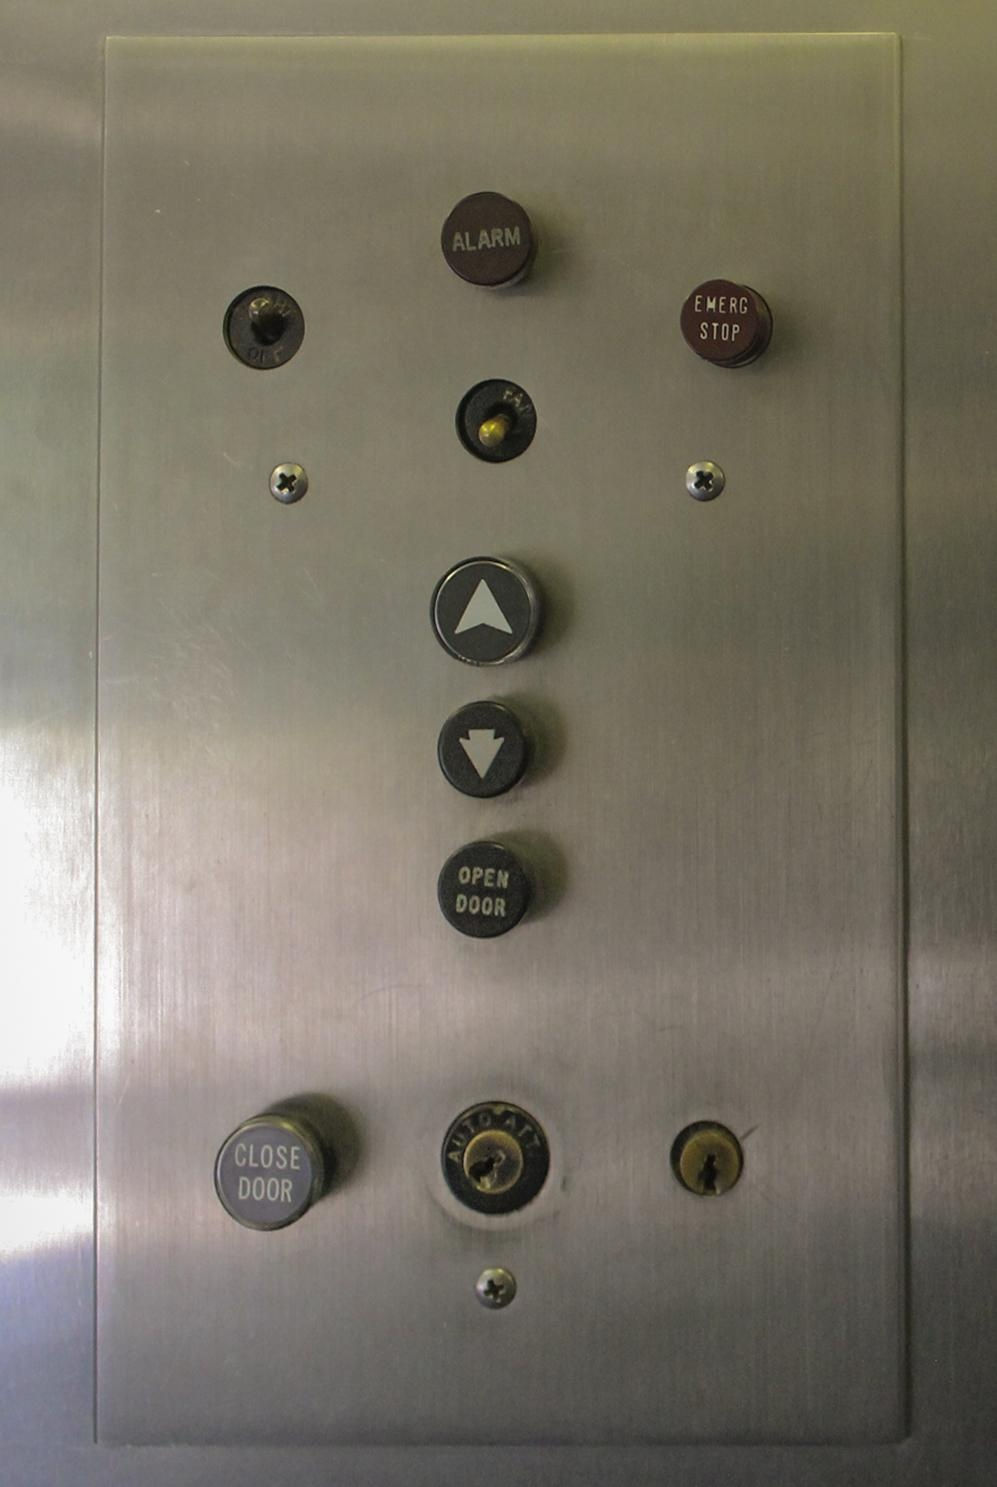down: (431, 692, 537, 800)
keyhole: (437, 1097, 552, 1218), (670, 1118, 748, 1205)
switch: (453, 371, 542, 466)
text_alarm: (435, 185, 539, 293)
text_close: (211, 1109, 327, 1235)
text_emergency: (675, 272, 772, 369)
text_open: (434, 831, 534, 948)
unknown: (221, 277, 305, 371)
up: (428, 547, 540, 675)
